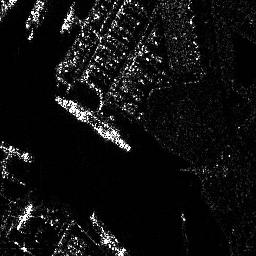ship: (89, 214, 126, 256), (56, 98, 90, 121), (1, 139, 33, 163)
